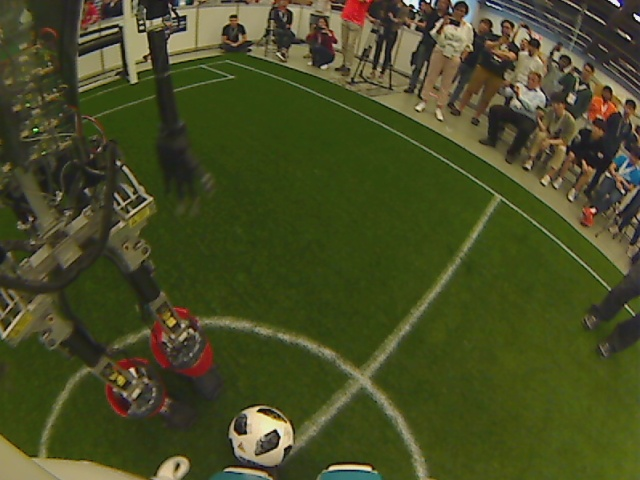ball: (227, 401, 297, 472)
goalpost: (79, 1, 141, 90)
robot: (1, 1, 219, 426)
